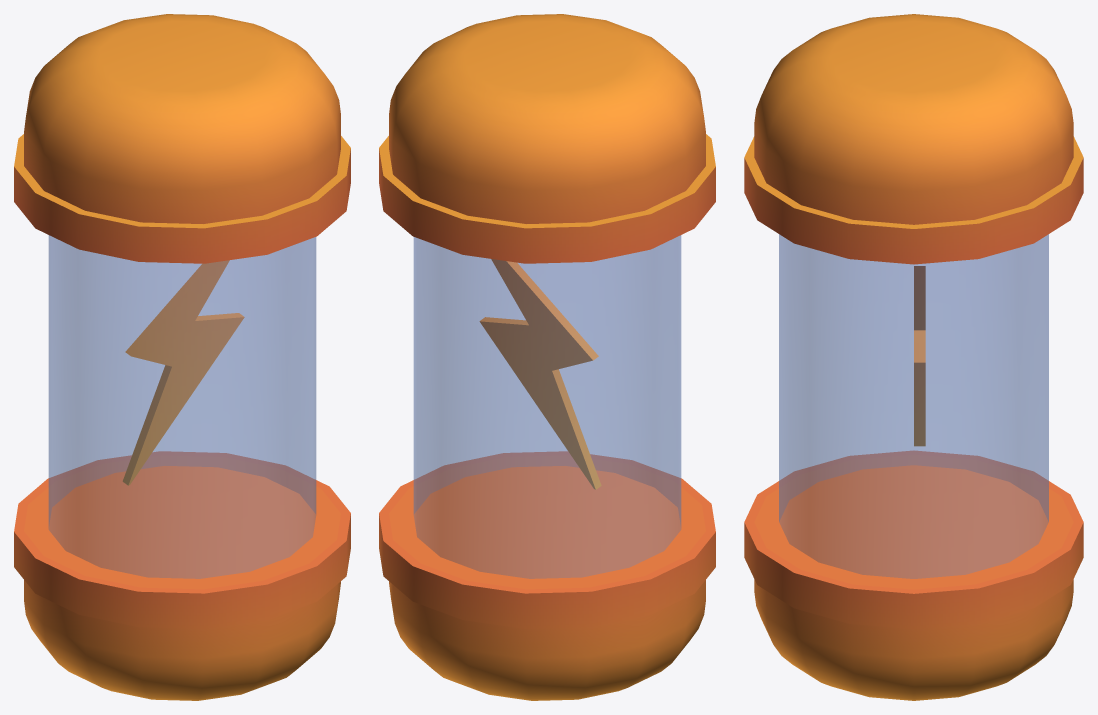
The model's file is Engery .fbx.
The picture shows the model from 3 angles, left to right: view 1: azimuth 30°, elevation 25°; view 2: azimuth 150°, elevation 25°; view 3: azimuth 270°, elevation 25°; orthographic projection.
Visible parts, largest first — view 1: Engery; view 2: Engery; view 3: Engery.
Boxes of the visible parts, box(x1,y1,x2,y2) form: Engery: box(14, 14, 350, 700); Engery: box(379, 14, 715, 700); Engery: box(744, 14, 1083, 700).
Bounding box in the file's own units: 173 × 338 × 173.
